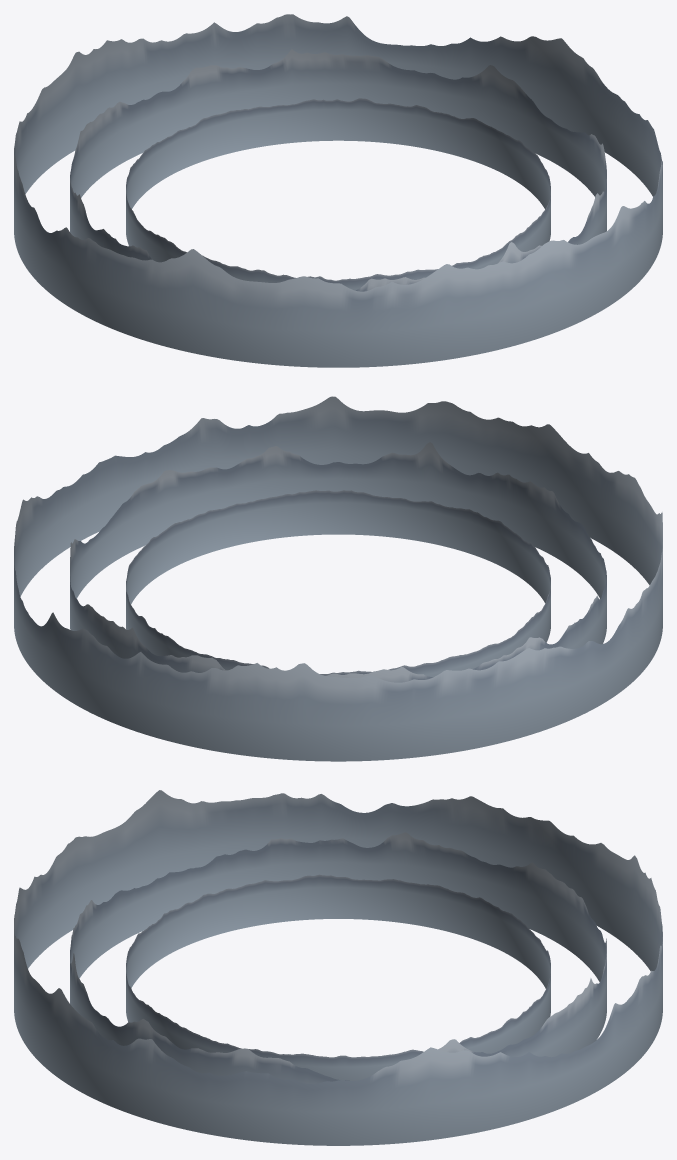
3 renders of one model, top to bottom at view 1: azimuth 30°, elevation 25°; view 2: azimuth 150°, elevation 25°; view 3: azimuth 270°, elevation 25°, orthographic.
Visible parts, largest first — view 1: Backdrop_L2_4; view 2: Backdrop_L2_4; view 3: Backdrop_L2_4.
Part boxes in pixels (x1,y1,x2,y2): Backdrop_L2_4: (14,14,662,367); Backdrop_L2_4: (14,396,662,761); Backdrop_L2_4: (14,790,662,1145).
Bounding box in the file's own units: 2320 × 412 × 2320.
